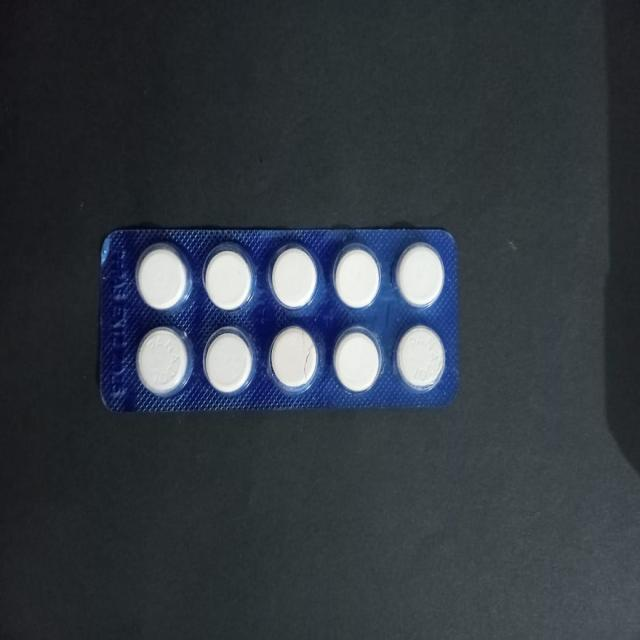defect: (270, 323, 320, 393)
